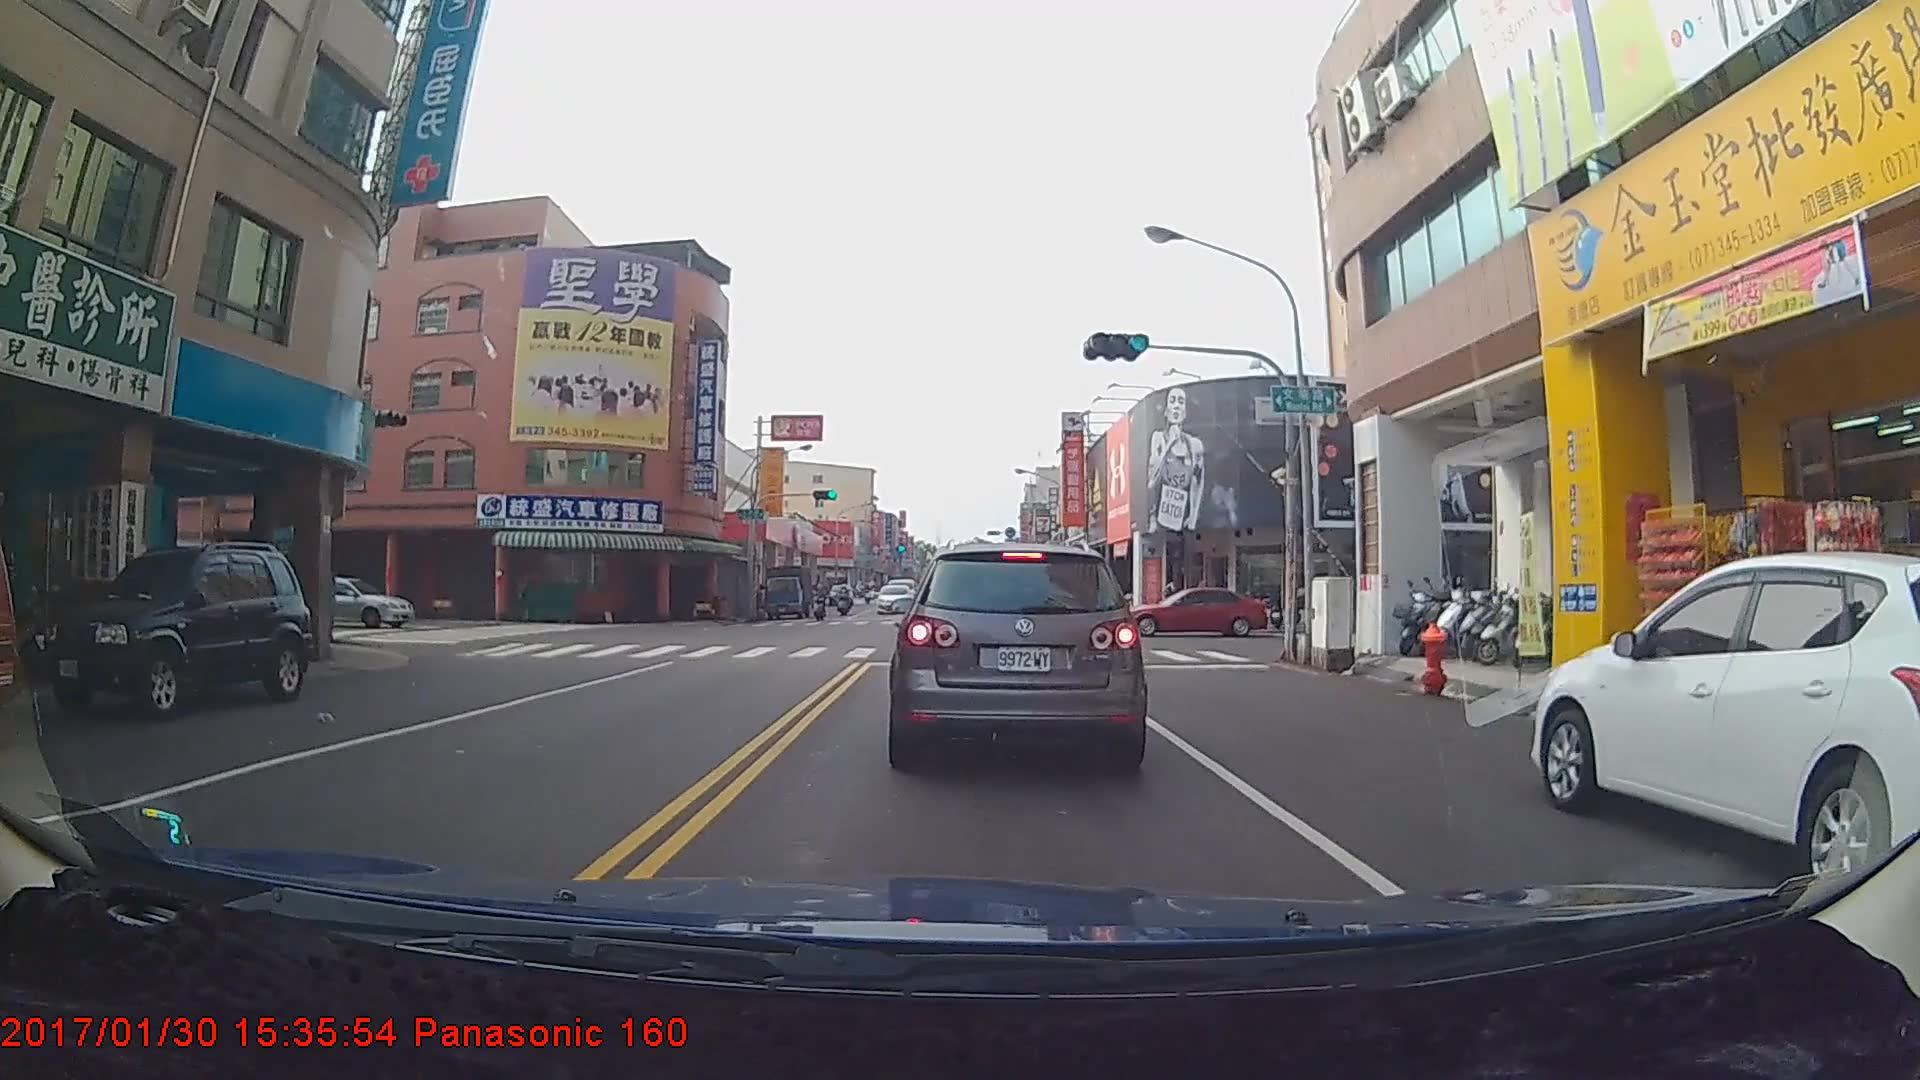rider: (805, 587, 831, 627), (836, 589, 857, 624)
vehicle: (1532, 552, 1919, 908), (893, 534, 1141, 768), (39, 541, 311, 721), (1115, 582, 1266, 634), (276, 574, 416, 626), (761, 567, 815, 624), (873, 583, 912, 615)
